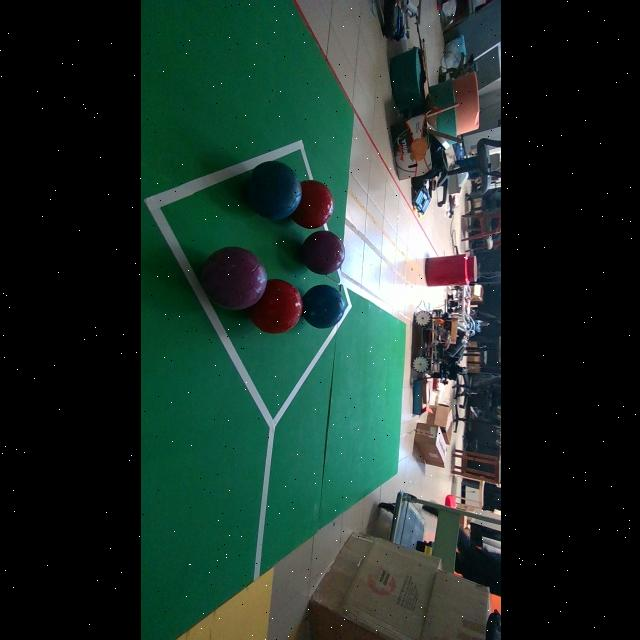B: (244, 161, 301, 220), (301, 285, 345, 329)
P: (199, 246, 266, 310), (301, 230, 344, 275)
R: (247, 279, 302, 334), (290, 181, 332, 229)
